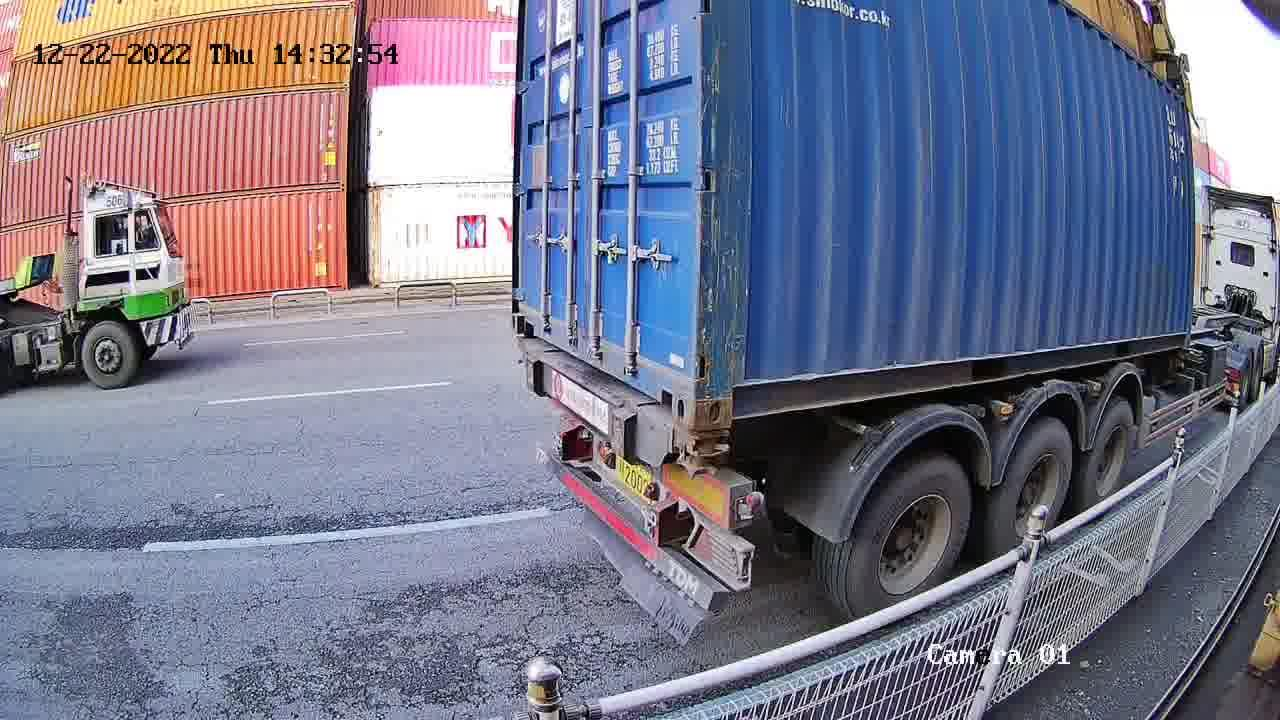Chassis: (515, 335, 698, 469)
Cone: (666, 418, 732, 485)
Hole_L: (692, 362, 773, 432), (511, 285, 543, 341)
Hole_R: (655, 349, 696, 430)
Tire: (844, 457, 973, 614), (997, 423, 1075, 551), (1084, 406, 1136, 504)
